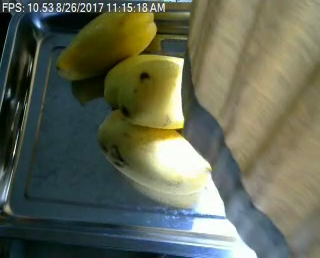Mango: (98, 109, 213, 193), (55, 5, 159, 82), (118, 59, 197, 127), (104, 54, 194, 113)
